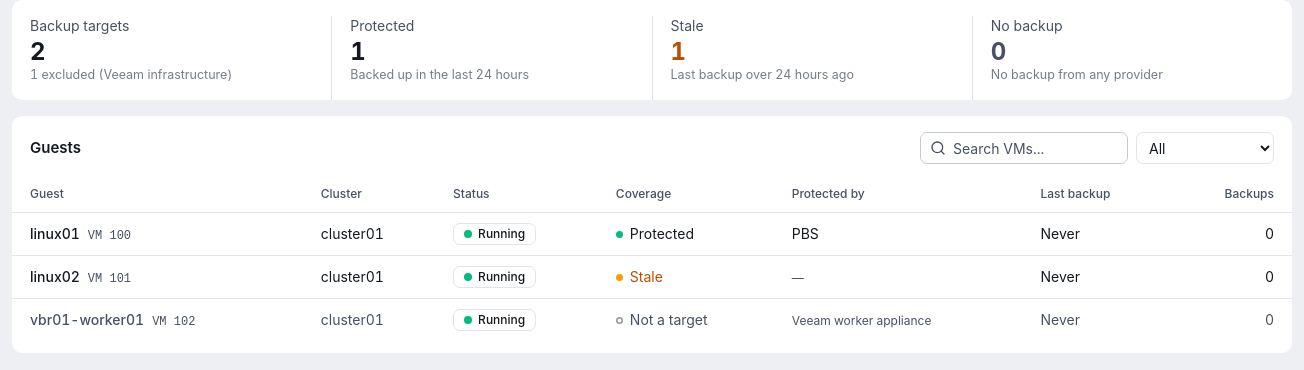
Scenario: filters the guests by the figure that is pressed
Expected: the text "linux01" is shown, [30,225,80,242]
Click the button "Stale 1 Last backup over 24 hours ago" at (687, 26), box [652,16,972,100]
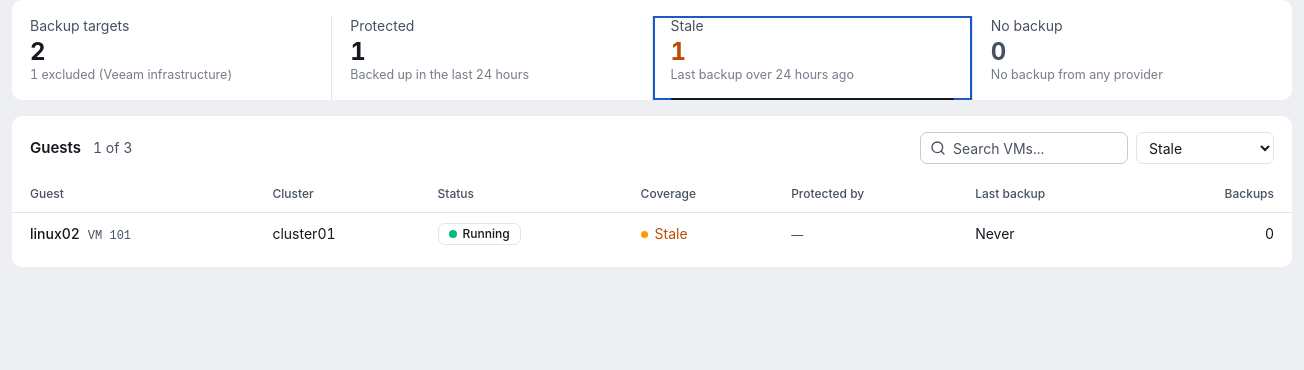
Expected: the text "linux02" is shown, [30,225,80,242]
Expected: the text "linux01" is gone
Click the button "Stale 1 Last backup over 24 hours ago" at (687, 26), box [652,16,972,100]
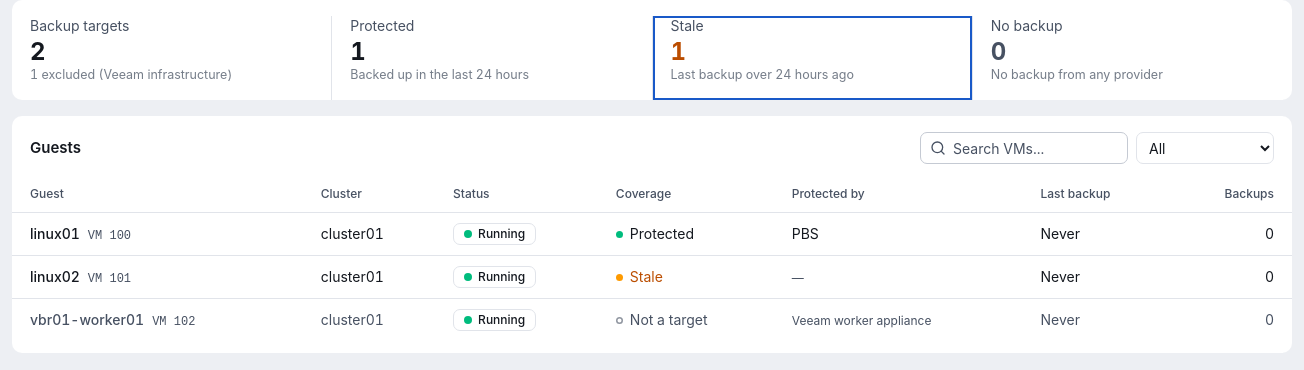
Expected: the text "linux01" is shown, [30,225,80,242]
Expected: the text "vbr01-worker01" is shown, [30,311,144,328]
Click the button "Backup targets 2 1 excluded (Veeam infrastructure)" at (80, 26), box [11,16,331,100]
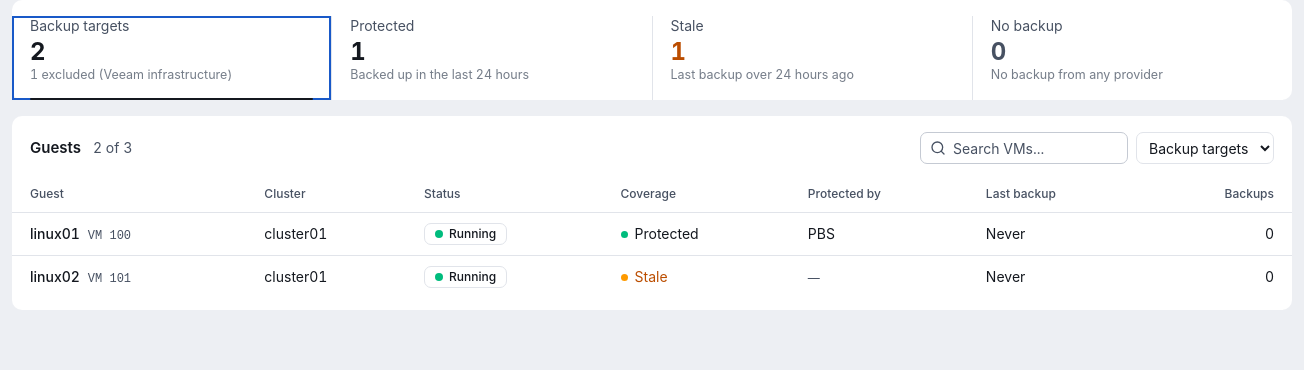
Expected: the text "linux02" is shown, [30,268,80,285]
Expected: the text "vbr01-worker01" is gone
Select "All" in the dropdown named "Coverage" at (1205, 148), box [1136,132,1274,164]
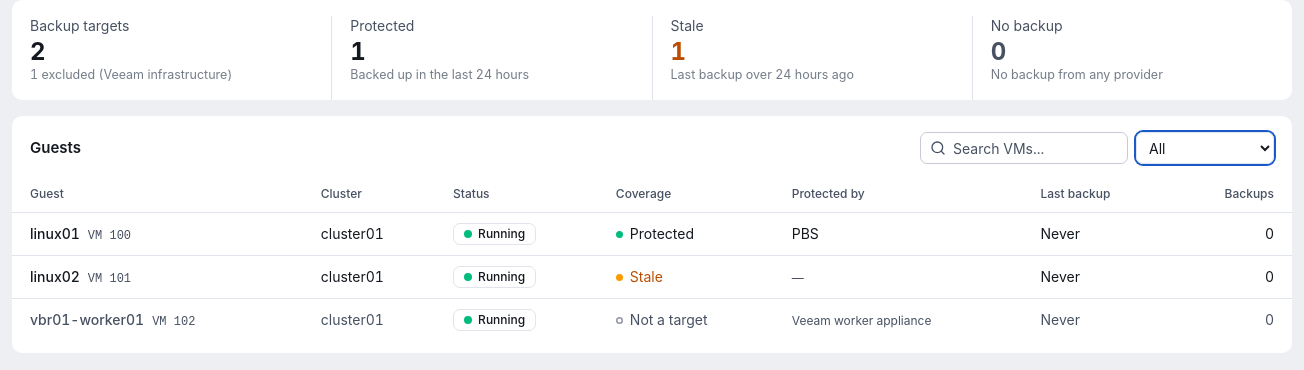
Expected: the text "vbr01-worker01" is shown, [30,311,144,328]
